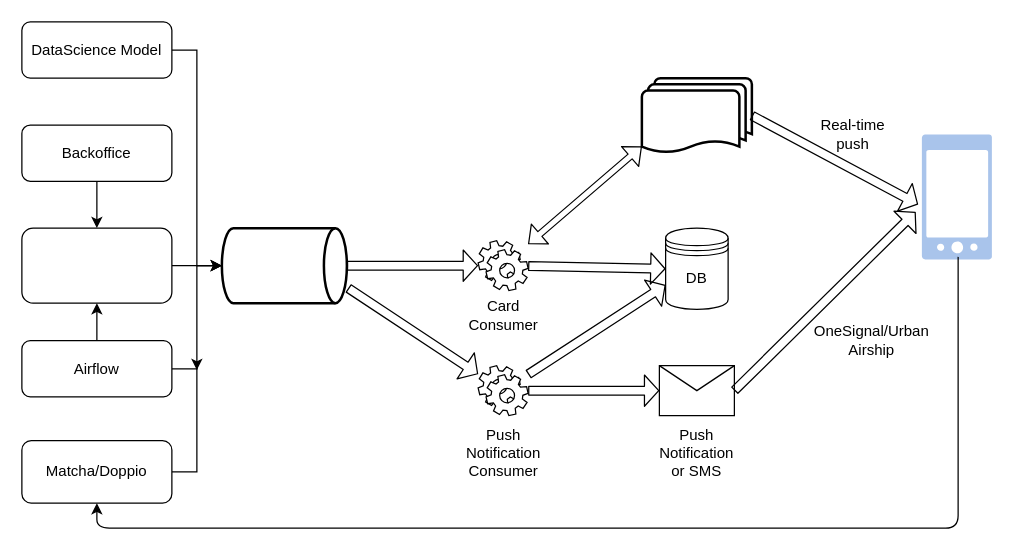
This 1014x560 diagram has some shape labels left out. Each missing label, with the centre of its shape:
"In-memory Cards" goes at (x=696, y=115).
"Kafka Log" goes at (x=284, y=265).
"REST Endpoint /api/event/submit" goes at (x=96, y=265).
